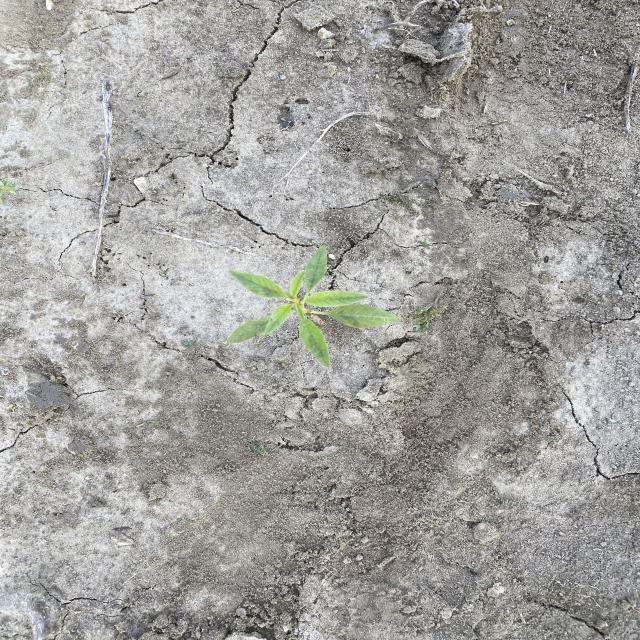Waterhemp: (225, 244, 404, 372)
